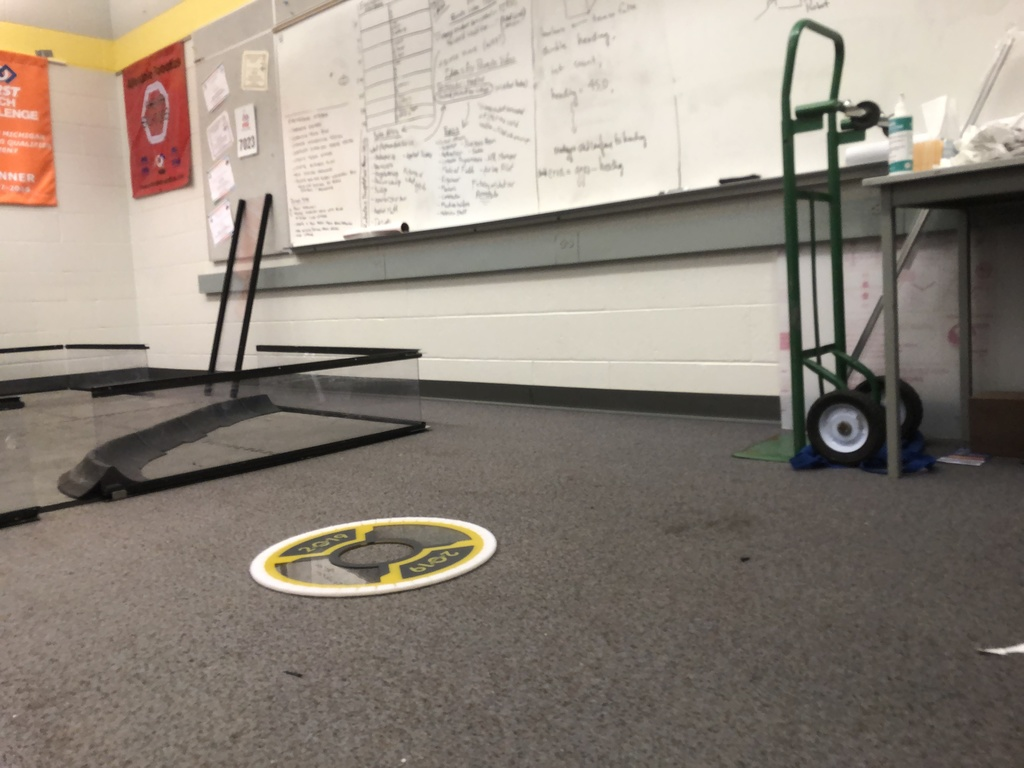hatch_panel: (240, 503, 509, 603)
